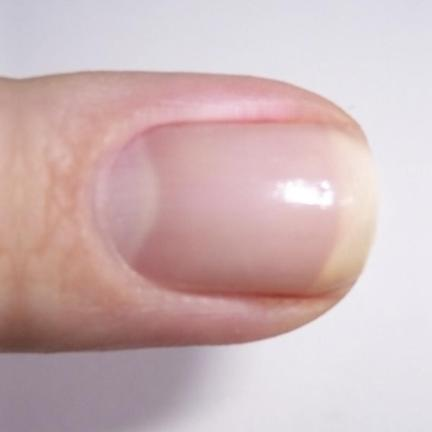Nail: (94, 123, 377, 298)
